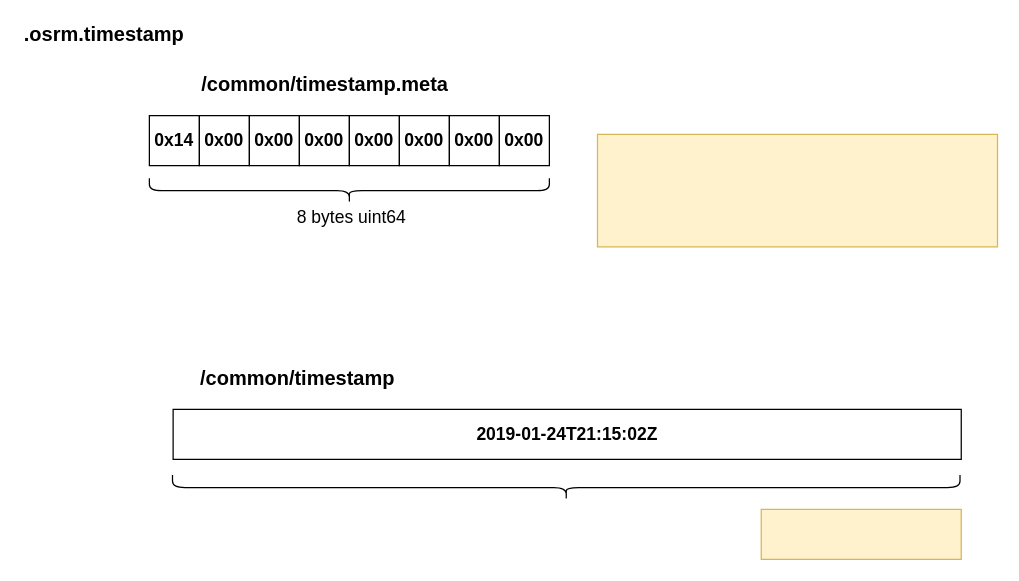
This 1019x581 diagram has some shape labels left out. Here are the shapes that lost their labels. From the top down, the centre of each, then its label:
pixel 797 190: Indicates how many bytes stored in /common/timestamp Sample value: 20
pixel 565 487: timestamp or data_version
pixel 860 533: 20 bytes in this sample
